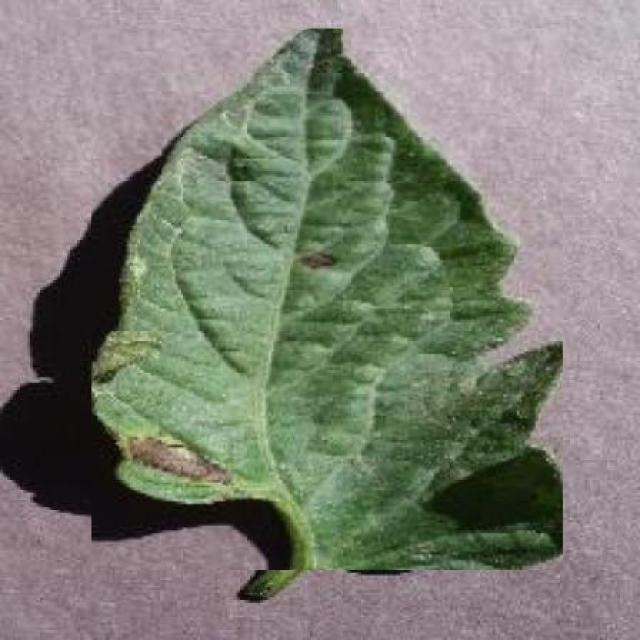Early Blight: (92, 29, 562, 570)
